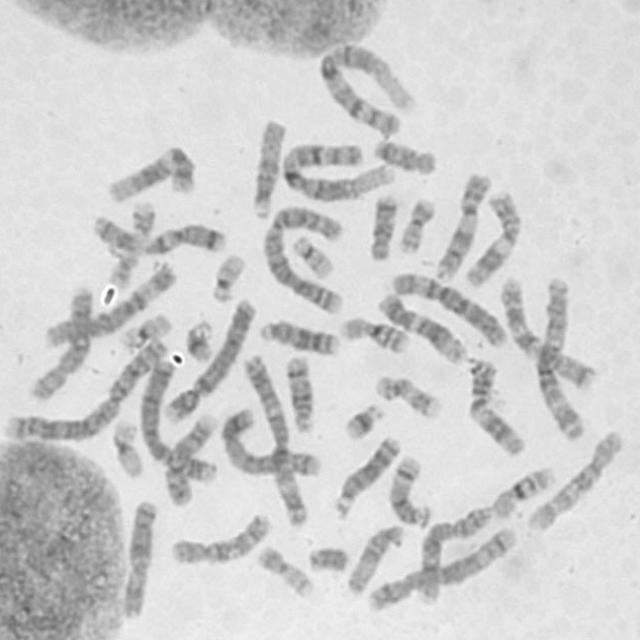A1: (316, 39, 418, 138), (277, 138, 396, 202)
A2: (0, 333, 173, 446), (261, 202, 347, 315)
A3: (238, 348, 312, 528), (532, 276, 587, 444)
B4: (162, 295, 258, 425), (136, 354, 220, 488)
B5: (364, 522, 518, 614), (216, 402, 324, 480)
C10: (523, 427, 627, 535), (167, 508, 273, 568)
C11: (460, 184, 525, 291), (463, 354, 528, 458)
C12: (373, 287, 471, 365), (105, 141, 198, 204)
C6: (41, 258, 178, 348), (388, 269, 510, 349)
C7: (497, 272, 598, 392), (88, 212, 226, 258)
C8: (414, 501, 494, 608), (27, 284, 95, 402)
C9: (432, 168, 493, 283), (161, 408, 219, 508)
D13: (330, 430, 402, 518), (255, 316, 341, 358)
D14: (385, 451, 433, 527), (282, 352, 317, 434)
D15: (343, 521, 405, 598), (247, 115, 288, 222)
E16: (488, 465, 556, 519), (336, 313, 412, 357)
E17: (104, 195, 158, 289), (371, 371, 444, 420)
E18: (370, 136, 438, 176), (366, 191, 399, 262)
F19: (114, 310, 174, 353), (110, 416, 144, 479)
F20: (254, 541, 314, 599), (394, 193, 437, 256)
G21: (340, 399, 385, 442), (182, 317, 214, 365)
G22: (289, 232, 335, 282), (208, 248, 247, 303)
X: (119, 496, 159, 618)
Y: (305, 543, 349, 574)
